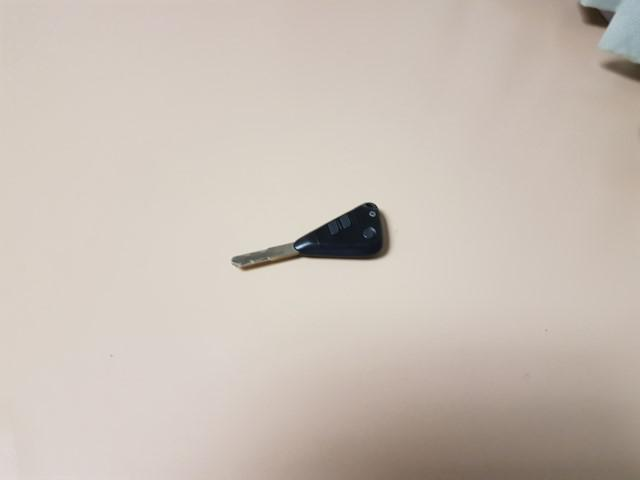key: (231, 200, 384, 269)
